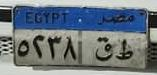2: (32, 34, 46, 60)
3: (46, 34, 62, 63)
5: (16, 37, 30, 60)
8: (62, 36, 77, 64)
Taa: (115, 37, 134, 64)
qaaf: (94, 36, 113, 65)
